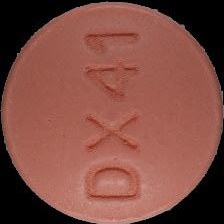50436-0676: (0, 0, 224, 224)
